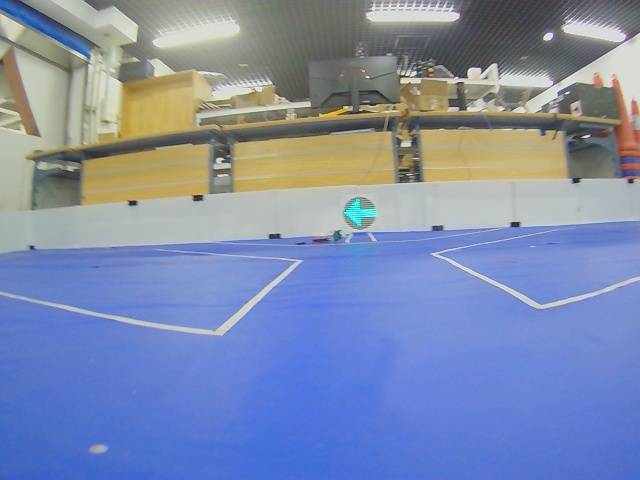left_green: (343, 197, 377, 230)
